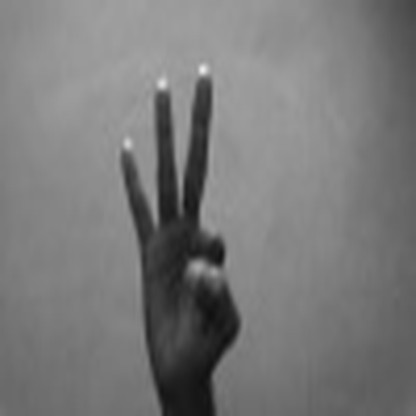f: (110, 47, 240, 378)
